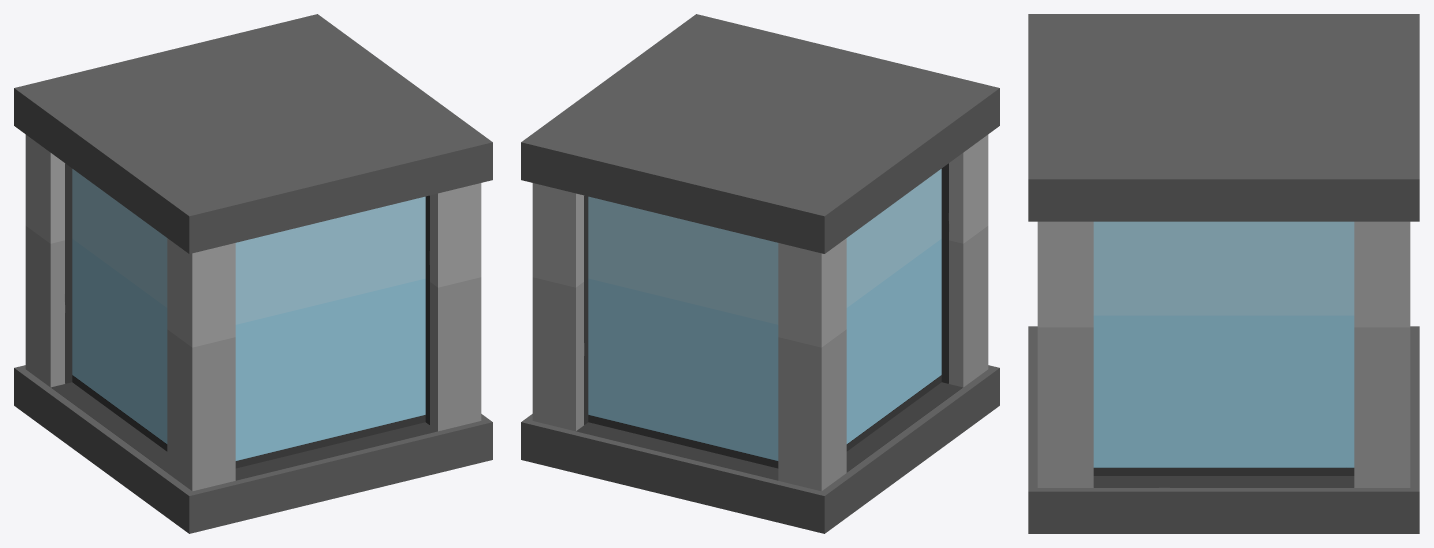
The model's file is Tower_1.fbx.
3 renders of one model, left to right at view 1: azimuth 30°, elevation 25°; view 2: azimuth 150°, elevation 25°; view 3: azimuth 270°, elevation 25°, orthographic. The views are drawn at different scales.
Visible parts, largest first — view 1: Box; view 2: Box; view 3: Box.
Boxes of the visible parts, x1,y1,x2,y2 form: Box: (14, 14, 492, 533); Box: (521, 14, 999, 533); Box: (1028, 14, 1419, 533).
Size of the model in its own units: 42 by 42 by 42.
1 material, 1 textured.
